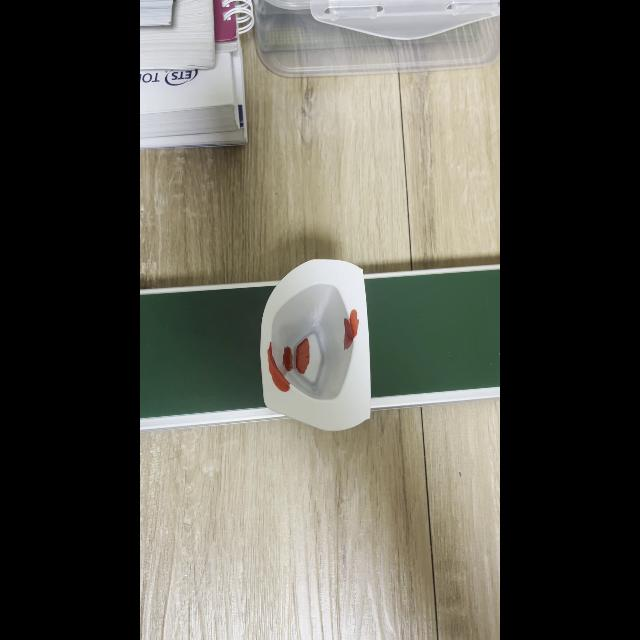dirty: (256, 278, 372, 418)
